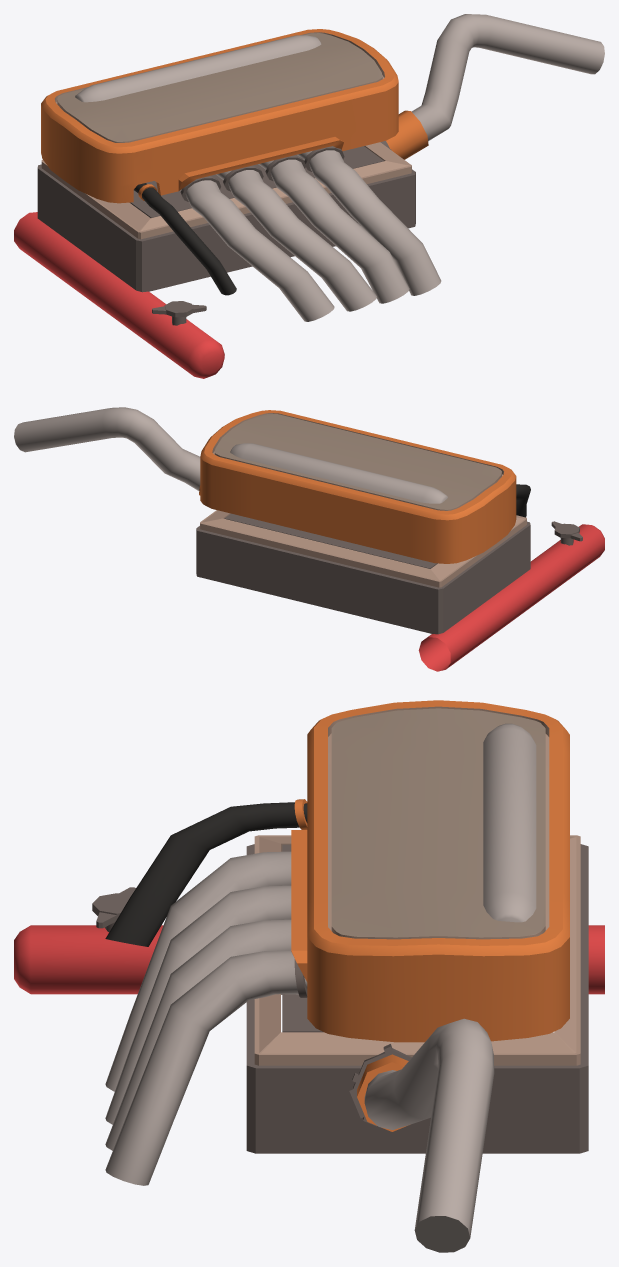
Rendered from CarEngine.fbx.
The picture shows the model from 3 angles, top to bottom: view 1: azimuth 30°, elevation 25°; view 2: azimuth 150°, elevation 25°; view 3: azimuth 270°, elevation 25°; orthographic projection. The views are drawn at different scales.
Parts seen in each view (by area): view 1: Line04; view 2: Line04; view 3: Line04.
Part boxes in pixels (x1,y1,x2,y2): Line04: [14, 14, 604, 378]; Line04: [14, 407, 604, 671]; Line04: [14, 700, 604, 1252].
Bounding box in the file's own units: 97.84 × 56 × 30.37.
